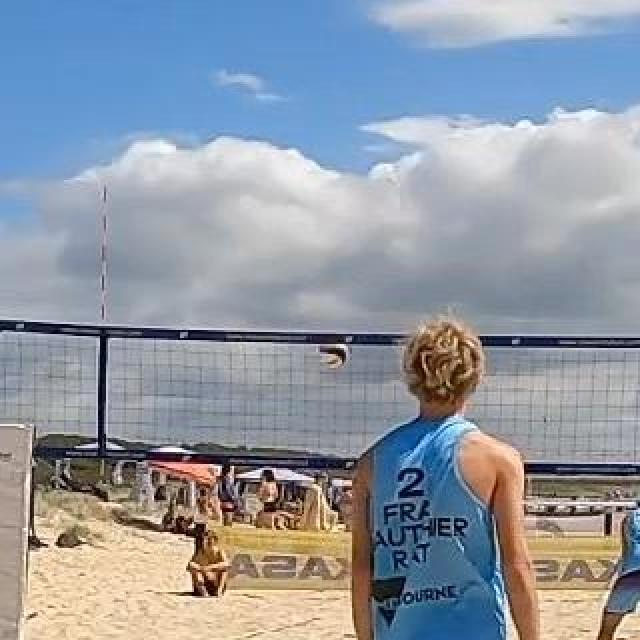volleyball: (317, 337, 351, 369)
